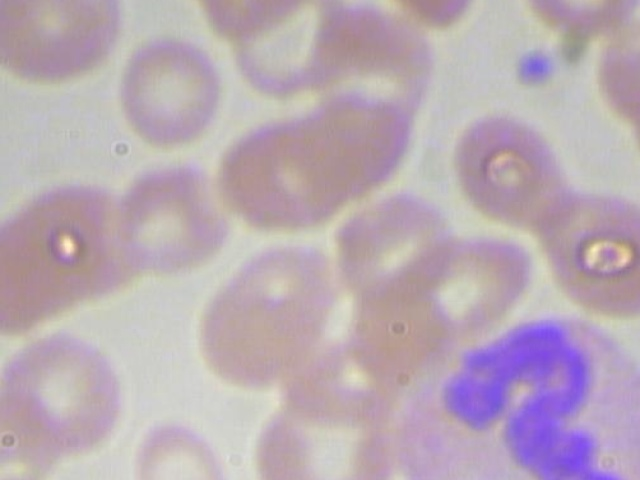Platelets: (507, 45, 558, 92)
RBC: (0, 323, 145, 453), (298, 9, 444, 133), (103, 149, 229, 283), (519, 180, 640, 319), (331, 183, 462, 301), (245, 384, 403, 480), (450, 109, 578, 225), (108, 34, 227, 154), (0, 0, 129, 96), (116, 414, 244, 480)
WBC: (395, 305, 640, 480)
